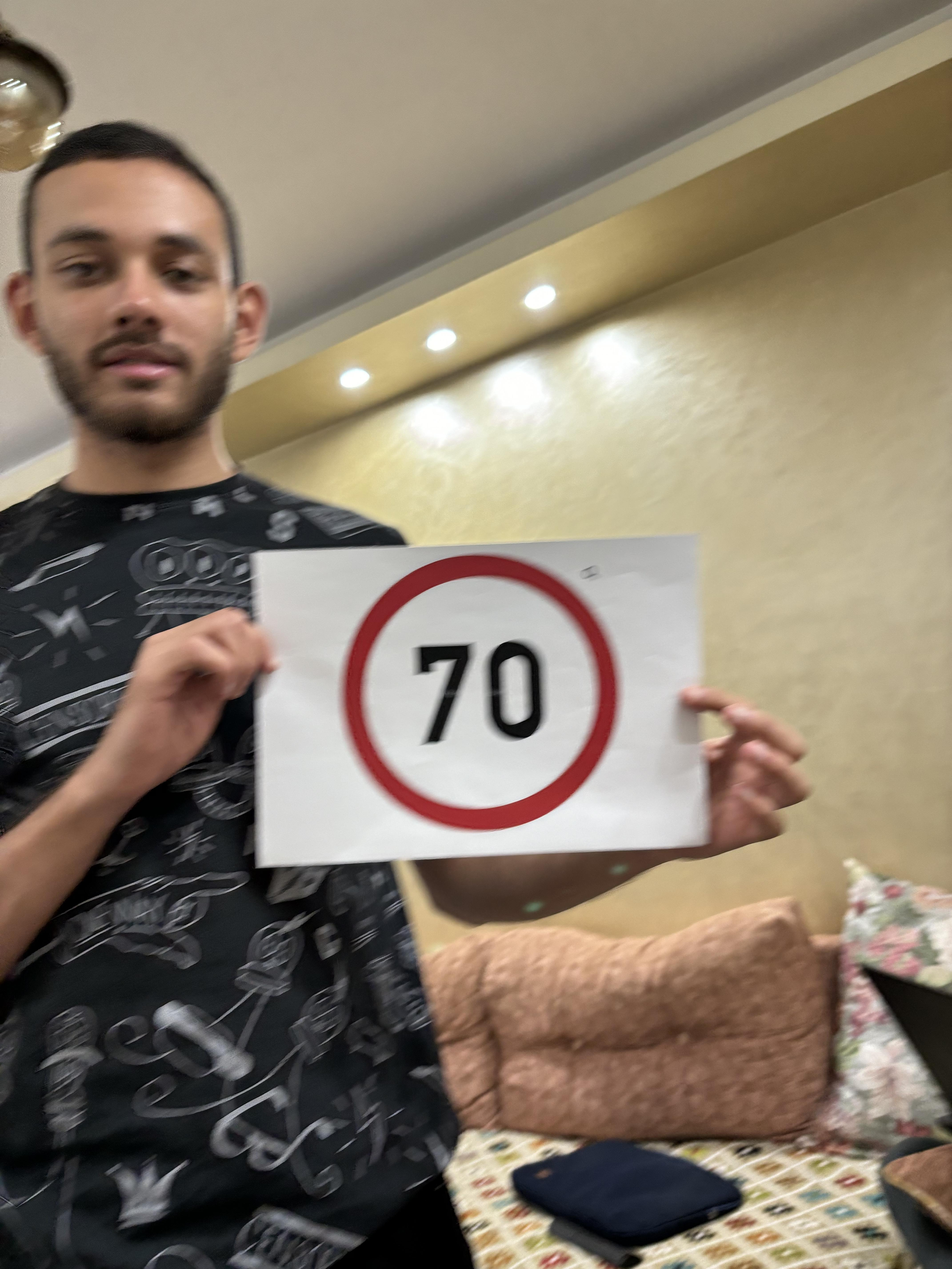70-Speed: (343, 551, 625, 828)
